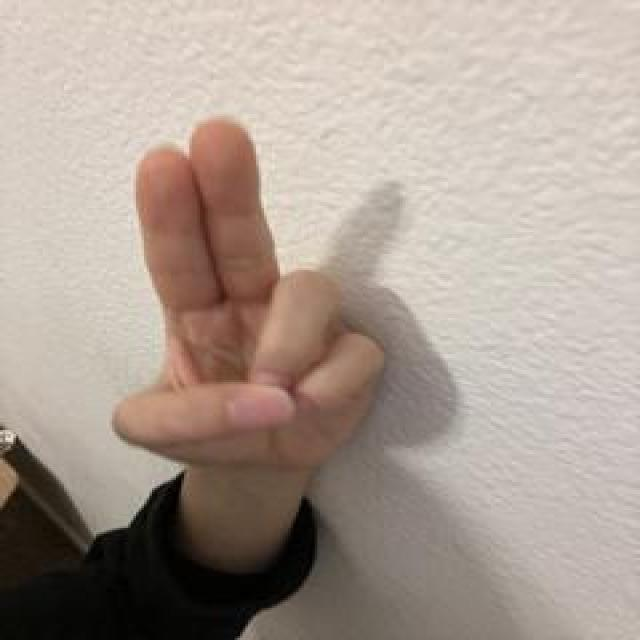U: (105, 110, 396, 474)
